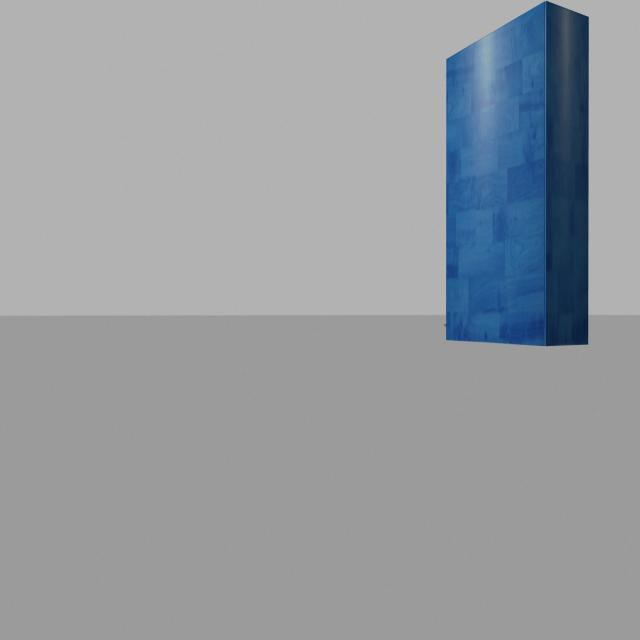bowl: (437, 318, 452, 335)
shelf: (442, 0, 593, 350)
